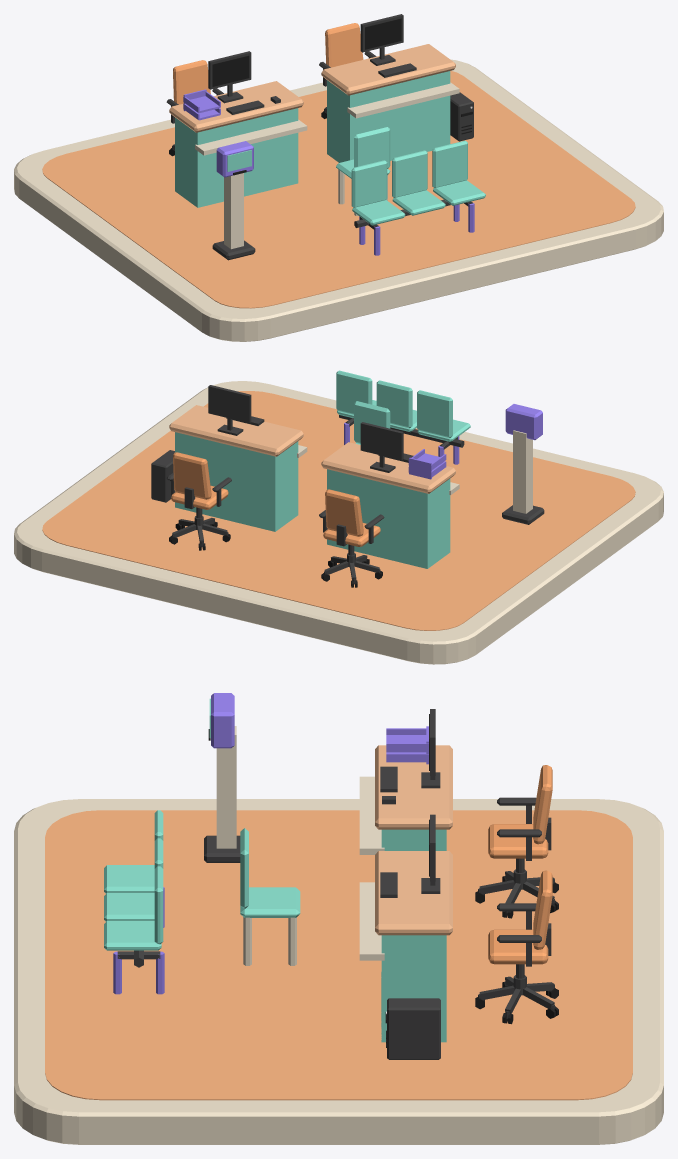
The model's file is room.fbx.
3 renders of one model, top to bottom at view 1: azimuth 30°, elevation 25°; view 2: azimuth 150°, elevation 25°; view 3: azimuth 270°, elevation 25°, orthographic. The views are drawn at different scales.
Parts seen in each view (by area): view 1: COM-02 Floor Surface, COM-01 Rounded Base Direct, Counter body.001, Counter body, Countertop.001, Countertop, COM-04_Chair_blender_direct.001, Frame.001, Frame, Back, Back.001, Back.002 (+11 smaller); view 2: COM-02 Floor Surface, COM-01 Rounded Base Direct, Counter body.001, Counter body, COM-04_Chair_blender_direct.001, COM-04_Chair_blender_direct, Countertop.001, Countertop, Pedestal, Frame.001, Frame, Back (+6 smaller); view 3: COM-02 Floor Surface, COM-01 Rounded Base Direct, Countertop.001, COM-04_Chair_blender_direct.001, COM-04_Chair_blender_direct, Countertop, Counter body.001, Tower, Pedestal, Seat.003, Seat.002, Visitor shelf.001 (+10 smaller).
Part boxes in pixels (box(x1,y1,x2,y2)): COM-02 Floor Surface: box(42, 71, 635, 308); COM-01 Rounded Base Direct: box(14, 59, 663, 341); Counter body.001: box(327, 71, 450, 162); Counter body: box(175, 108, 298, 207); Countertop.001: box(321, 44, 455, 95); Countertop: box(169, 81, 303, 132); COM-04_Chair_blender_direct.001: box(319, 23, 376, 118); Frame.001: box(360, 14, 403, 65); Frame: box(208, 51, 251, 103); Back: box(351, 160, 387, 207); Back.001: box(392, 150, 427, 197); Back.002: box(432, 140, 467, 187); COM-02 Floor Surface: box(42, 391, 635, 630); COM-01 Rounded Base Direct: box(14, 381, 663, 664); Counter body.001: box(175, 432, 298, 531); Counter body: box(327, 469, 450, 568); COM-04_Chair_blender_direct.001: box(166, 452, 231, 550); COM-04_Chair_blender_direct: box(319, 489, 384, 587); Countertop.001: box(169, 405, 303, 456); Countertop: box(321, 442, 455, 493); Pedestal: box(513, 430, 532, 513); Frame.001: box(208, 385, 251, 435); Frame: box(360, 422, 403, 472); Back: box(417, 390, 452, 437); COM-02 Floor Surface: box(45, 810, 632, 1100); COM-01 Rounded Base Direct: box(14, 799, 663, 1144); Countertop.001: box(375, 851, 452, 935); COM-04_Chair_blender_direct.001: box(475, 870, 558, 1024); COM-04_Chair_blender_direct: box(475, 765, 558, 918); Countertop: box(375, 745, 452, 829); Counter body.001: box(381, 935, 446, 1042); Tower: box(387, 998, 440, 1059); Pedestal: box(216, 726, 236, 848); Seat.003: box(240, 887, 300, 917); Seat.002: box(104, 921, 161, 950); Visitor shelf.001: box(359, 882, 384, 960).
Bounding box in the file's own units: 600 × 187 × 520.
